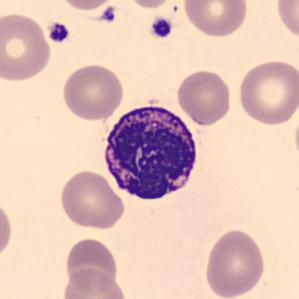Basophil: (98, 96, 203, 205)
Platelets: (149, 15, 174, 40), (46, 20, 70, 44), (101, 6, 117, 24)
RBC: (202, 226, 267, 299), (58, 168, 128, 231), (236, 57, 298, 127), (60, 62, 126, 122), (0, 9, 53, 83), (174, 67, 234, 127), (62, 235, 121, 292), (181, 0, 250, 39), (61, 267, 127, 299), (274, 0, 299, 43), (0, 198, 14, 262), (72, 2, 120, 19), (55, 0, 120, 12), (125, 0, 176, 10), (292, 105, 299, 169)
